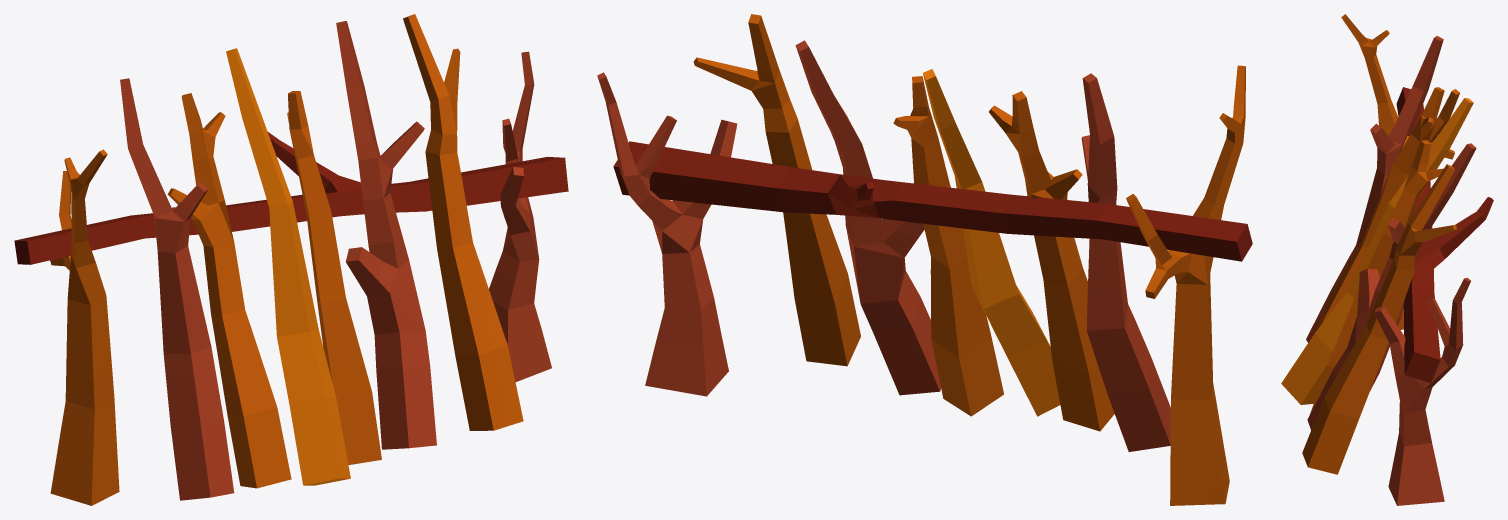
File: Wall Trunk-Fence_02.fbx
3 renders of one model, left to right at view 1: azimuth 30°, elevation 25°; view 2: azimuth 150°, elevation 25°; view 3: azimuth 270°, elevation 25°, orthographic. The views are drawn at different scales.
Visible parts, largest first — view 1: Trunk-Fence_02; view 2: Trunk-Fence_02; view 3: Trunk-Fence_02.
Boxes of the visible parts, x1,y1,x2,y2 form: Trunk-Fence_02: (14,14,568,505); Trunk-Fence_02: (597,14,1252,505); Trunk-Fence_02: (1281,14,1493,505).
Bounding box in the file's own units: 449 × 302 × 183.
